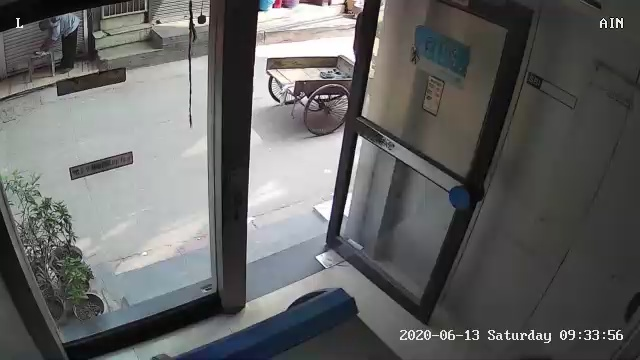open: (197, 12, 557, 322)
